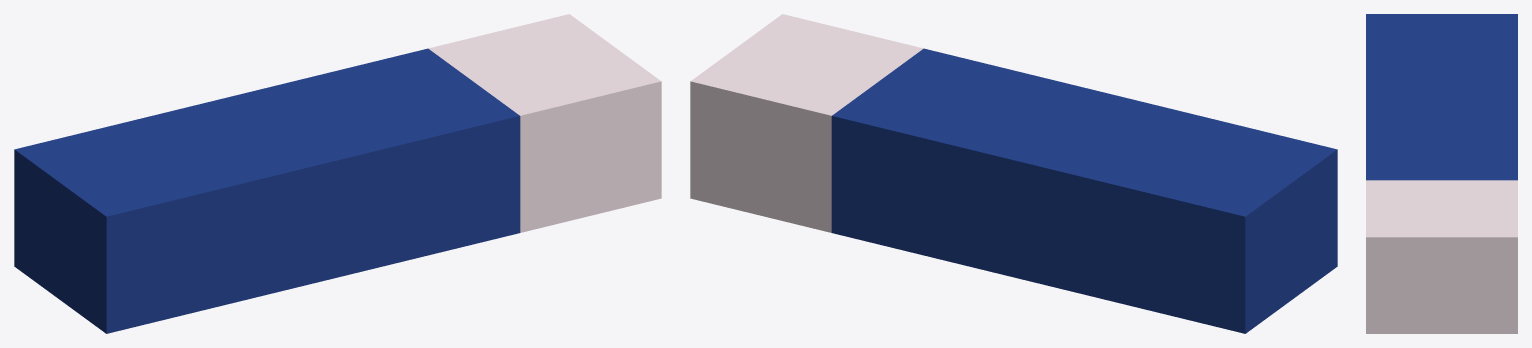
File: SM_box_snacks_06.fbx
The picture shows the model from 3 angles, left to right: view 1: azimuth 30°, elevation 25°; view 2: azimuth 150°, elevation 25°; view 3: azimuth 270°, elevation 25°; orthographic projection. The views are drawn at different scales.
Parts seen in each view (by area): view 1: box_snacks_06; view 2: box_snacks_06; view 3: box_snacks_06.
Boxes of the visible parts, bbox=[...] form: box_snacks_06: bbox=[14, 14, 661, 333]; box_snacks_06: bbox=[690, 14, 1337, 333]; box_snacks_06: bbox=[1366, 14, 1517, 333].
Bounding box in the file's own units: 29.39 × 5.93 × 8.44.
